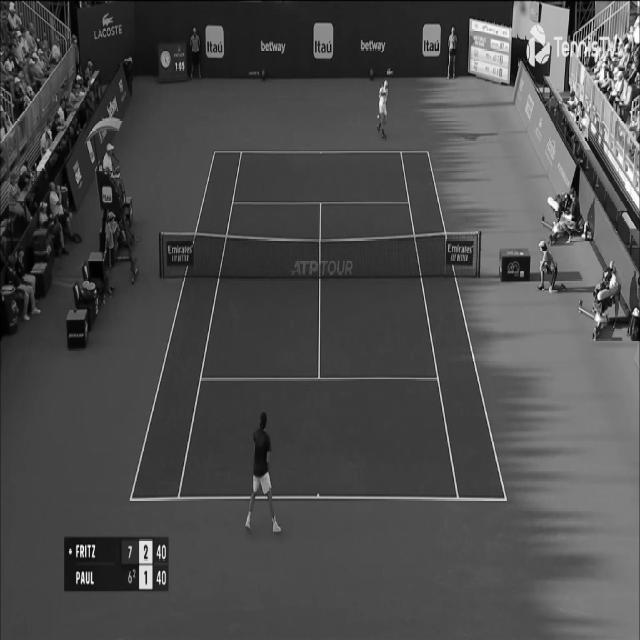tennis-court: (129, 151, 507, 500)
